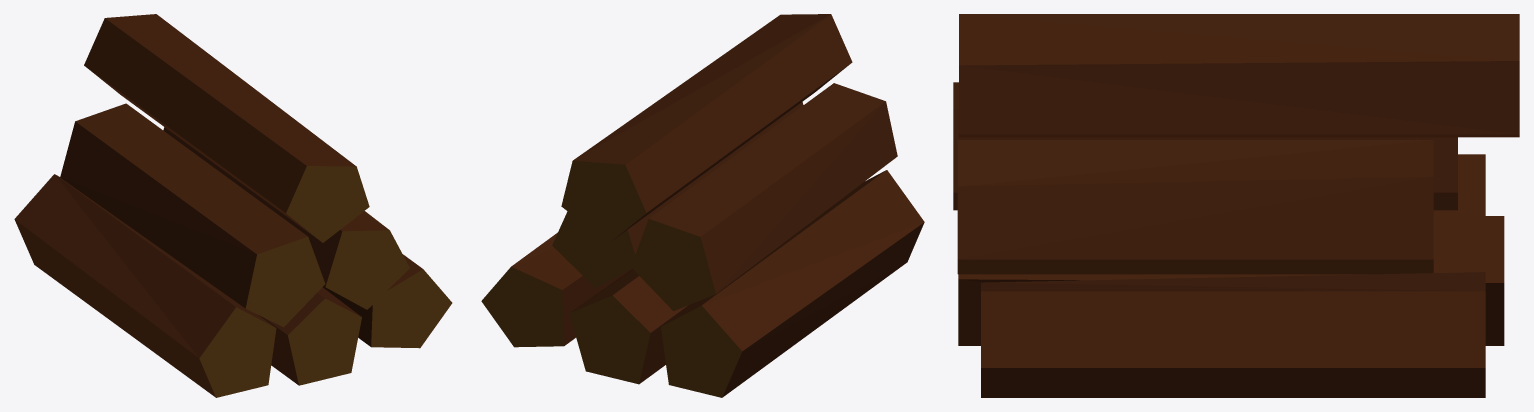
Rendered from Piles_of_wood_4.fbx.
3 renders of one model, left to right at view 1: azimuth 30°, elevation 25°; view 2: azimuth 150°, elevation 25°; view 3: azimuth 270°, elevation 25°, orthographic. The views are drawn at different scales.
Parts seen in each view (by area): view 1: Piles_of_wood_4; view 2: Piles_of_wood_4; view 3: Piles_of_wood_4.
Part boxes in pixels (x1=…): Piles_of_wood_4: x1=14, y1=14, x2=452, y2=397; Piles_of_wood_4: x1=481, y1=14, x2=924, y2=397; Piles_of_wood_4: x1=953, y1=14, x2=1519, y2=397.
Bounding box in the file's own units: 147 × 119 × 203.
